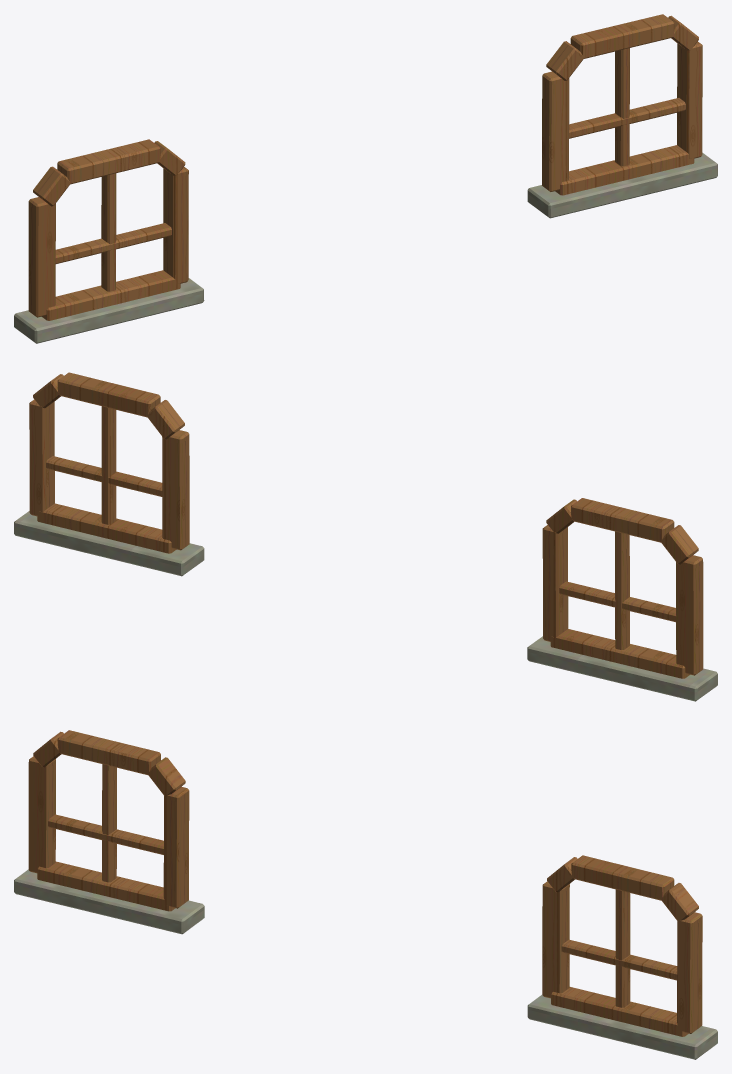
The model's file is SM_HH_Q3_Windows_Far.fbx.
3 renders of one model, top to bottom at view 1: azimuth 30°, elevation 25°; view 2: azimuth 150°, elevation 25°; view 3: azimuth 330°, elevation 25°, orthographic.
Parts seen in each view (by area): view 1: HH_Q3_Windows_Far; view 2: HH_Q3_Windows_Far; view 3: HH_Q3_Windows_Far.
Part boxes in pixels (x1,y1,x2,y2): HH_Q3_Windows_Far: (14,14,717,343); HH_Q3_Windows_Far: (14,372,717,701); HH_Q3_Windows_Far: (14,730,717,1059).
Bounding box in the file's own units: 0.3544 × 6.12 × 1.39.
